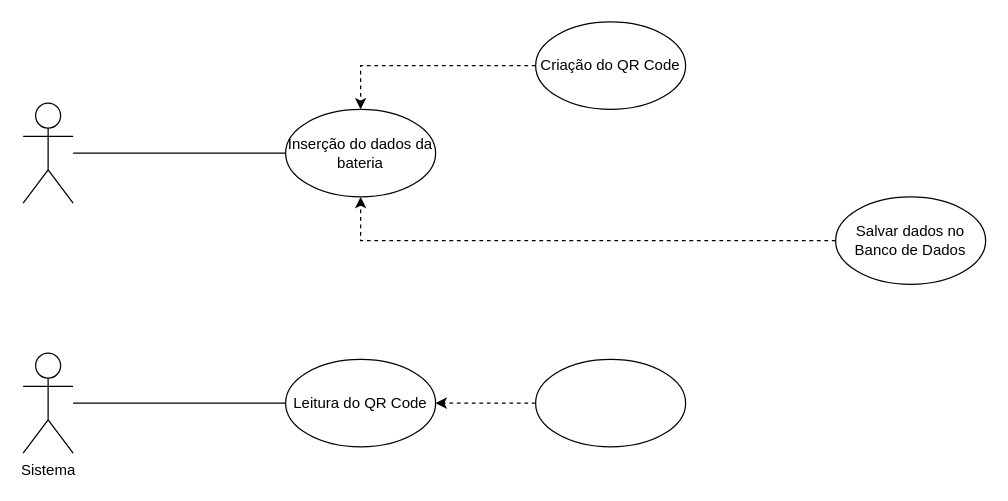
The diagram is 1008 pixels wide and 501 high, and some of its shapes have lost their labels. The centre of each missing label's shape, as x and y in pixels:
"Alocação das Baterias" belongs at pixel 610 402.
"Usuario" belongs at pixel 47 152.
